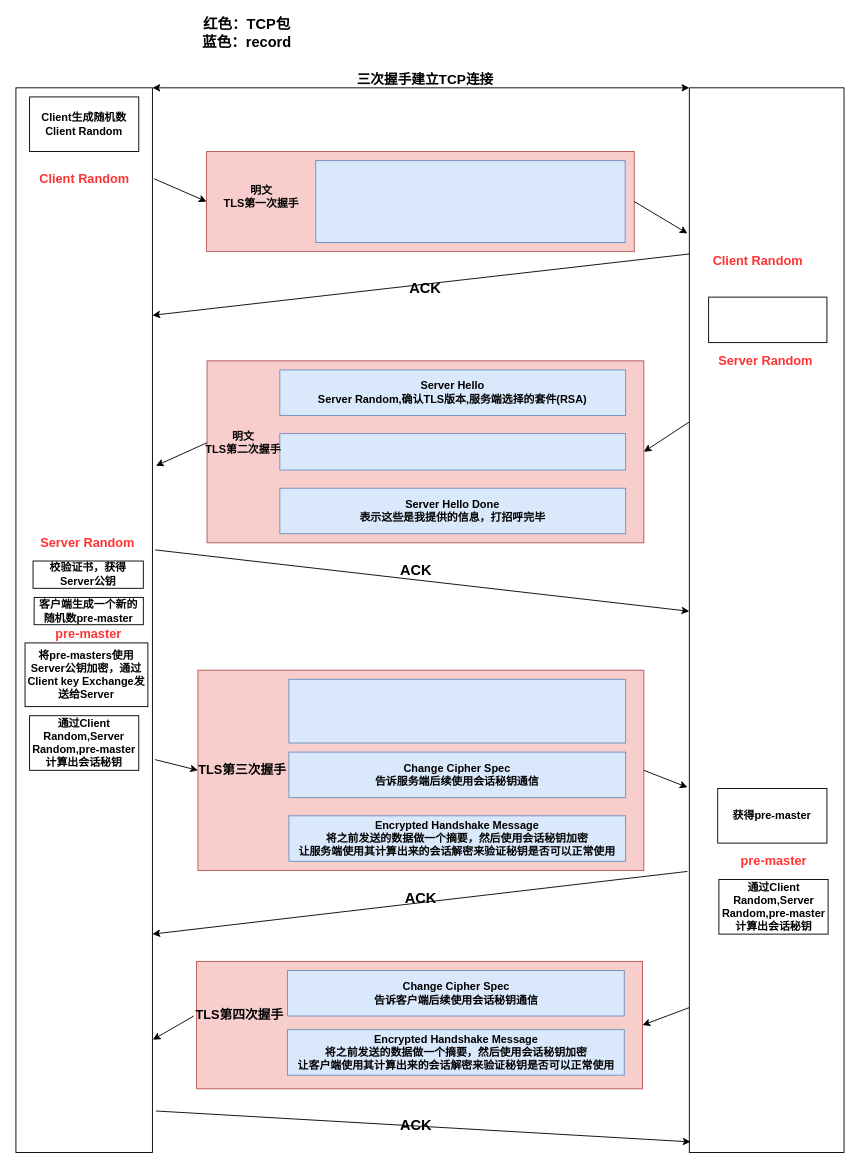
Image size: 860x1168. Some labels were removed from this diagram. Here are the shapes that lost their labels. From the top down, the centre of each, then its label:
the point at 470,201: Client Hello Client Random,客户端的TLS版本号,客户端支持的密码套件
the point at 767,319: 服务端生成随机数Server Random
the point at 452,451: Certificate Server的证书
the point at 457,710: Client Key Exchange 将pre-master用服务器公钥加密，发送给Server
